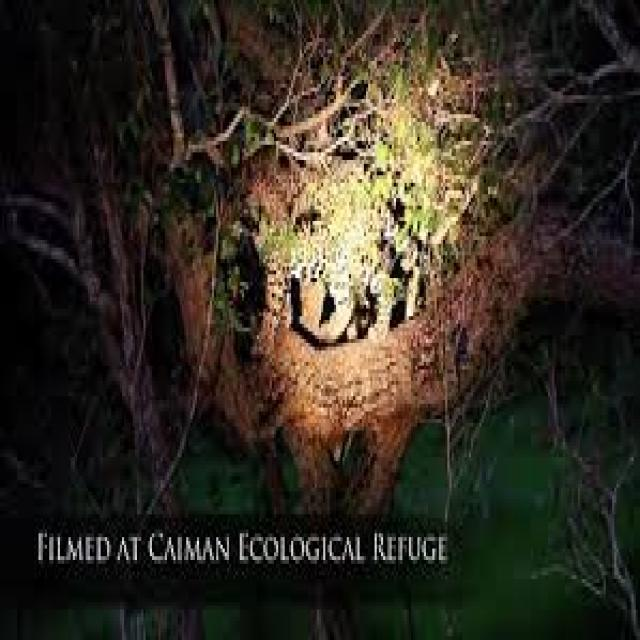Jaguar: (199, 118, 417, 366)
